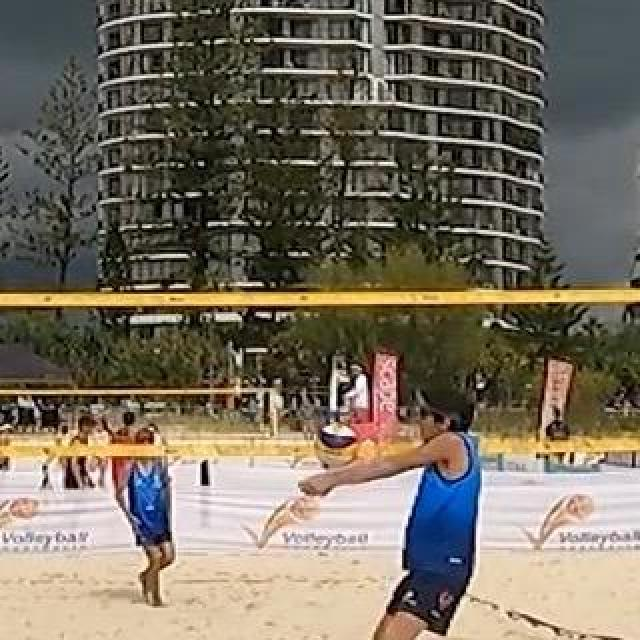volleyball: (316, 423, 360, 465)
